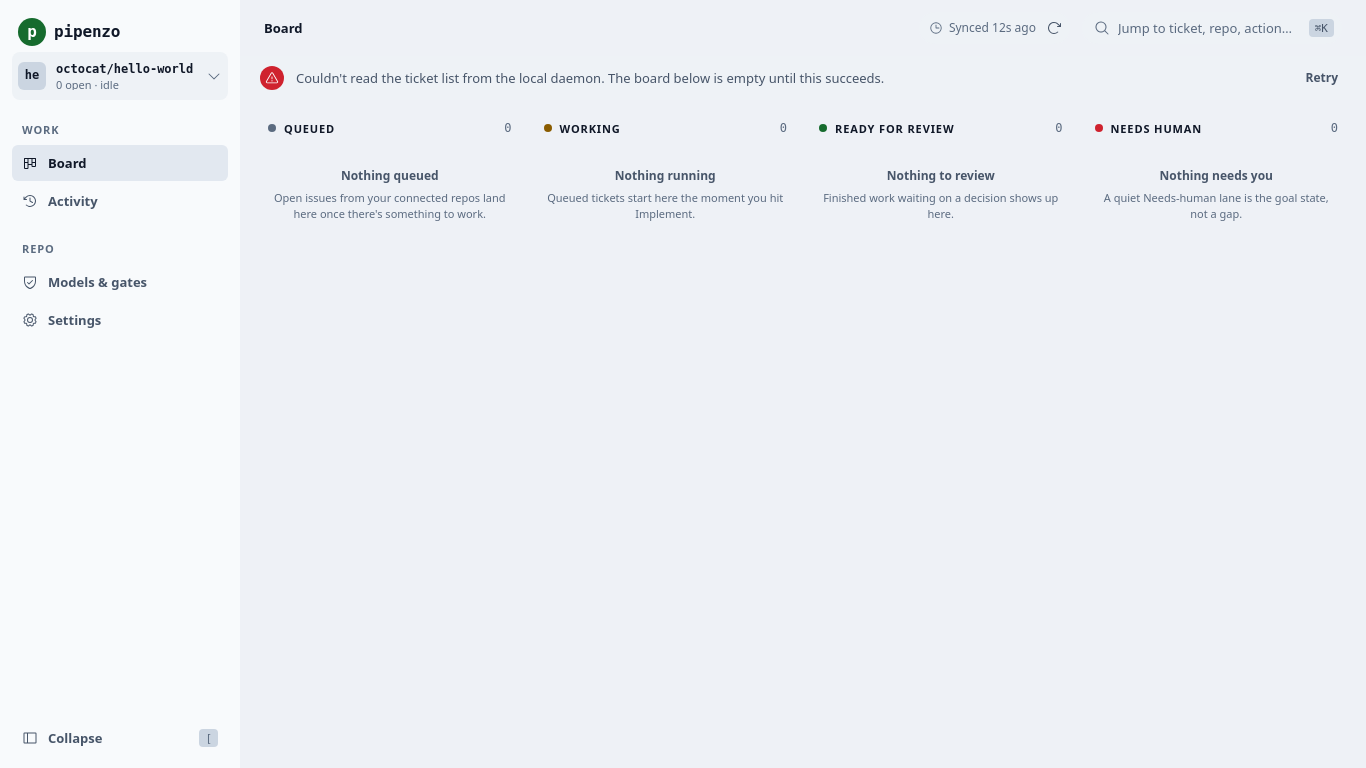
Scenario: PipenzoAppShell › shows a distinct error banner rather than a silent empty board when the ticket list fails to load, and Retry re-reads it
The width and height of the screenshot is (1366, 768).
Expected: the text "Couldn.t read the ticket list from the local daemon" is shown, [296,69,884,87]
Expected: the text "Queued" is shown, [268,122,335,134]
Click the button "Retry" at (1322, 78), box [1294,64,1350,92]
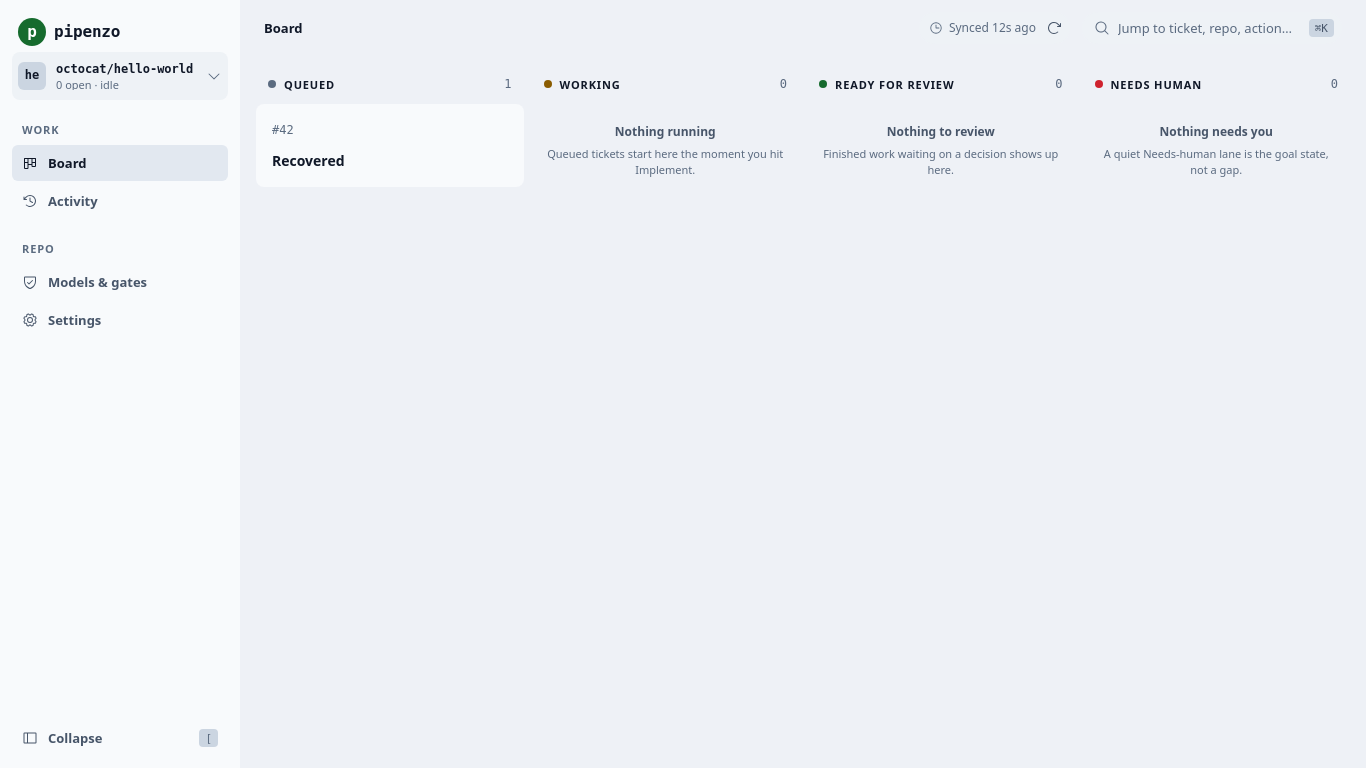
Expected: the text "Recovered" is shown, [272,151,345,170]
Expected: the text "Couldn.t read the ticket list from the local daemon" is gone
